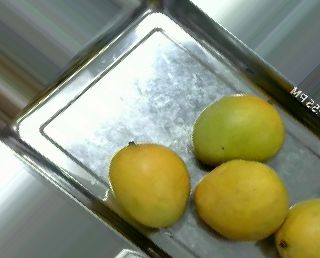Mango: (189, 158, 288, 241), (107, 140, 185, 229), (191, 95, 286, 166), (272, 198, 320, 257)
